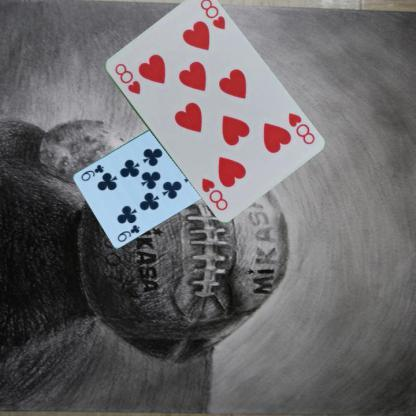8h: (285, 110, 316, 146), (112, 60, 141, 96)
9c: (115, 222, 141, 243)
